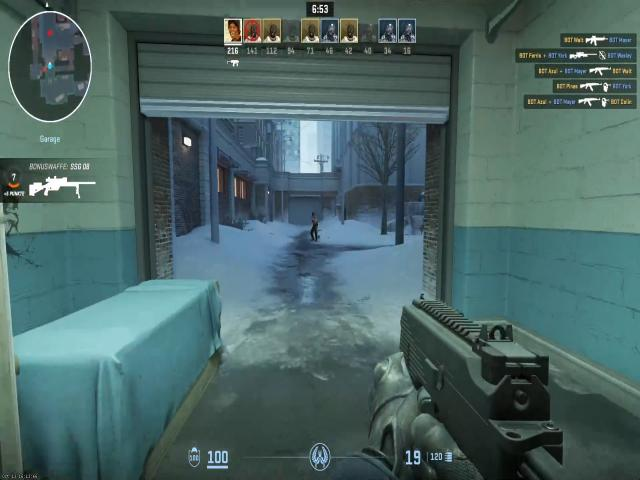T: (310, 211, 318, 231)
T-Head: (311, 213, 316, 219)
